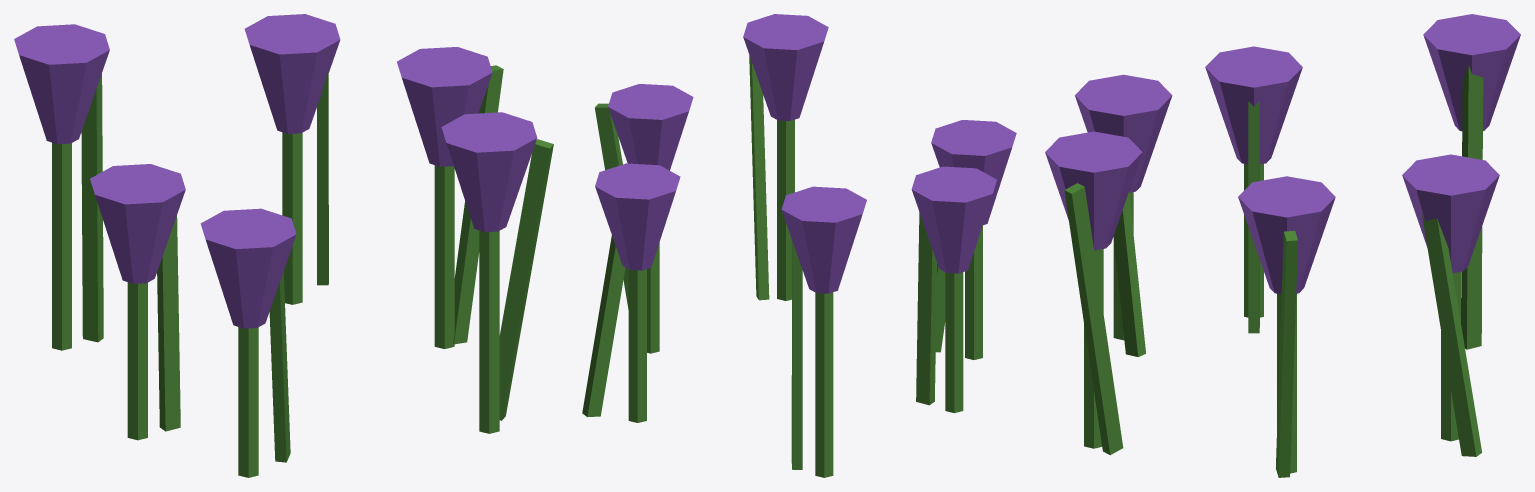
Rendered from Prop_Bee_Flora_Crocus.glb.
The picture shows the model from 3 angles, left to right: view 1: azimuth 30°, elevation 25°; view 2: azimuth 150°, elevation 25°; view 3: azimuth 270°, elevation 25°; orthographic projection. The views are drawn at different scales.
Visible parts, largest first — view 1: Prop_Bee_Flora_Crocus; view 2: Prop_Bee_Flora_Crocus; view 3: Prop_Bee_Flora_Crocus.
Part boxes in pixels (<box>): Prop_Bee_Flora_Crocus: <box>14,14,553,477</box>; Prop_Bee_Flora_Crocus: <box>582,14,1016,477</box>; Prop_Bee_Flora_Crocus: <box>1045,14,1520,477</box>.
Size of the model in its own units: 0.1682 by 0.1138 by 0.1656.
